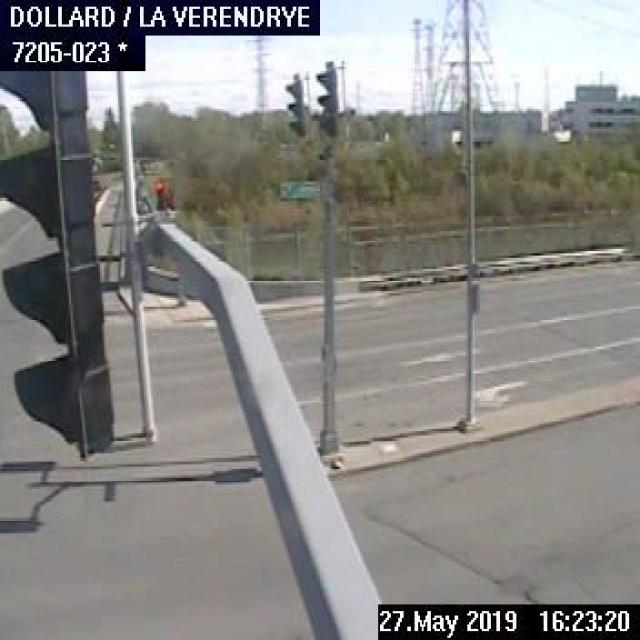vehicle: (92, 175, 102, 200)
